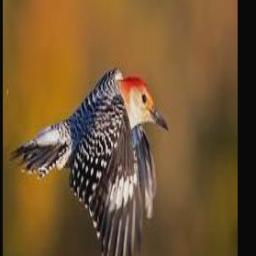Woodpecker: (10, 67, 169, 256)
